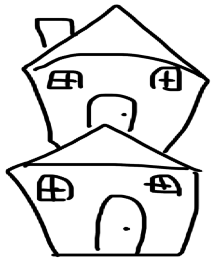big_house: (0, 1, 224, 260)
chimney: (23, 13, 78, 54)
closed_window: (33, 166, 79, 204), (145, 63, 187, 103), (45, 62, 89, 96), (139, 171, 186, 197)
door: (84, 193, 150, 258), (83, 88, 148, 138)
roof: (14, 0, 214, 81)
wall: (6, 158, 208, 257)
